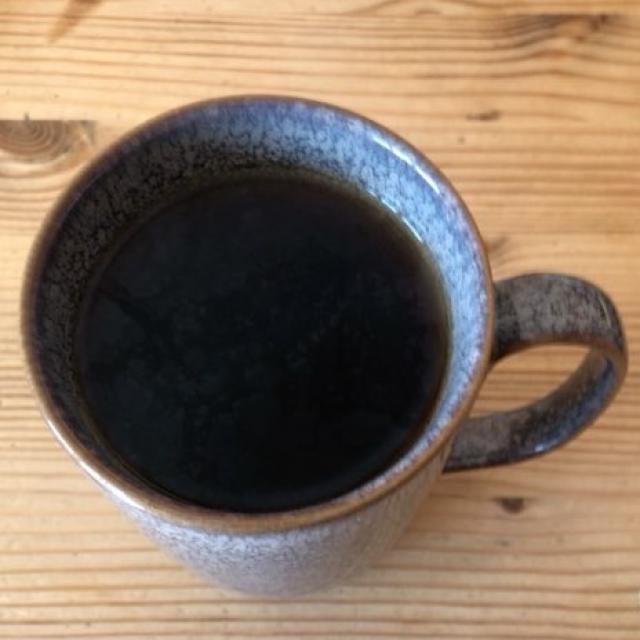tea: (81, 181, 439, 501)
